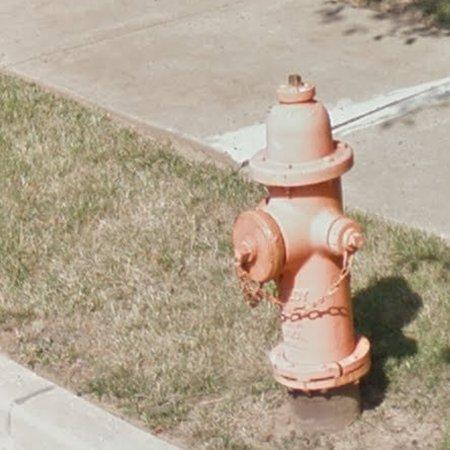a fire hydrant: (234, 74, 372, 428)
